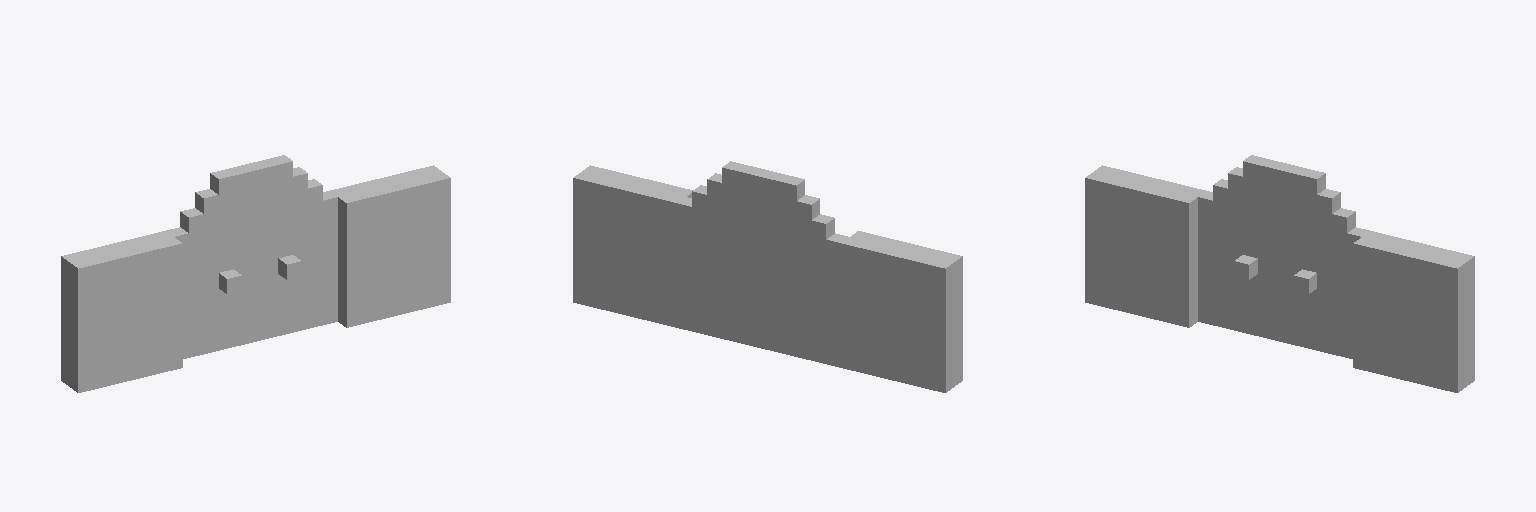
File: gate.obj
The picture shows the model from 3 angles: view 1: azimuth 30°, elevation 25°; view 2: azimuth 150°, elevation 25°; view 3: azimuth 330°, elevation 25°; orthographic projection.
Parts seen in each view (by area): view 1: object 1; view 2: object 1; view 3: object 1.
Part boxes in pixels (x1,y1,x2,y2): object 1: (61, 155, 450, 392); object 1: (573, 161, 962, 392); object 1: (1085, 155, 1474, 392).
Bounding box in the file's own units: 2.5 × 1.1 × 0.2.